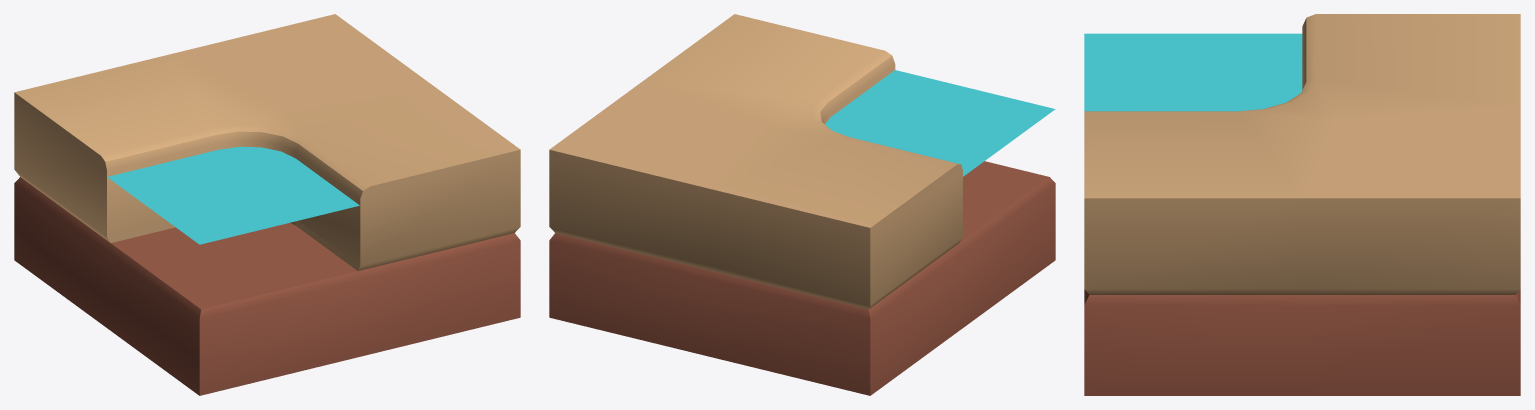
The model's file is square_sand_waterInnerCorner_noSides.glb.
3 renders of one model, left to right at view 1: azimuth 30°, elevation 25°; view 2: azimuth 150°, elevation 25°; view 3: azimuth 270°, elevation 25°, orthographic. The views are drawn at different scales.
Parts seen in each view (by area): view 1: square_sand_waterInnerCorner_noSides; view 2: square_sand_waterInnerCorner_noSides; view 3: square_sand_waterInnerCorner_noSides.
Part boxes in pixels (left/top/right/bottom): square_sand_waterInnerCorner_noSides: left=14, top=14, right=520, bottom=395; square_sand_waterInnerCorner_noSides: left=549, top=14, right=1055, bottom=395; square_sand_waterInnerCorner_noSides: left=1084, top=14, right=1520, bottom=395.
Size of the model in its own units: 2 by 1 by 2.
